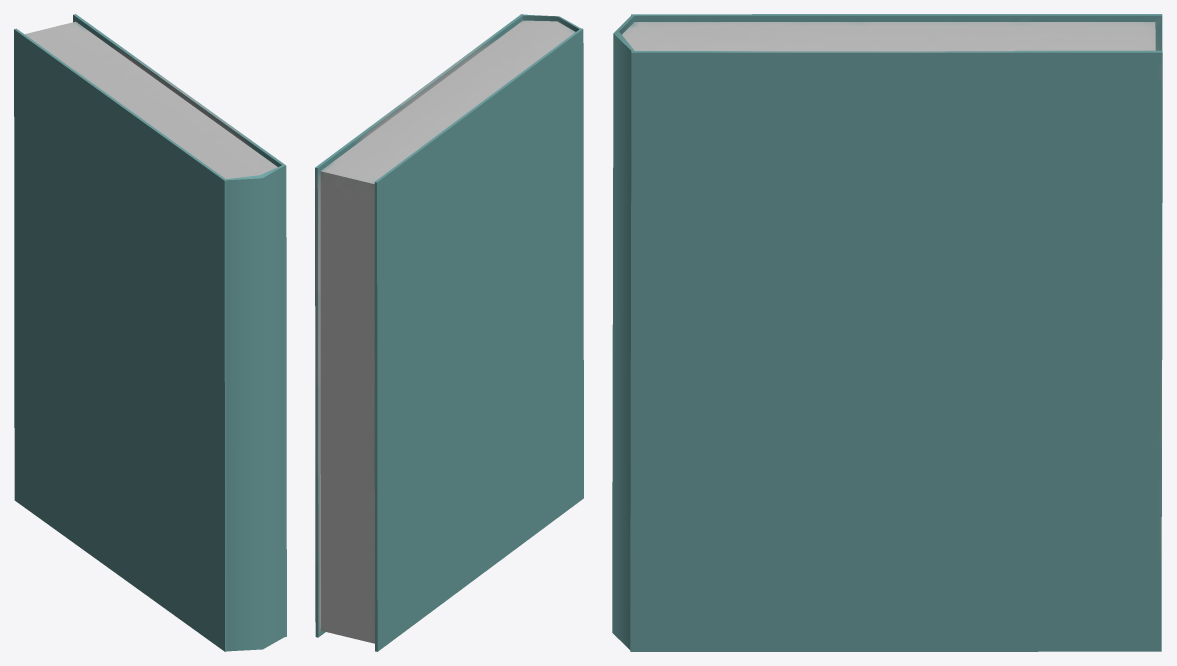
Rendered from BookAqua.fbx.
3 renders of one model, left to right at view 1: azimuth 30°, elevation 25°; view 2: azimuth 150°, elevation 25°; view 3: azimuth 270°, elevation 25°, orthographic. The views are drawn at different scales.
Visible parts, largest first — view 1: BookAquaOBJ; view 2: BookAquaOBJ; view 3: BookAquaOBJ.
Part boxes in pixels (x1,y1,x2,y2): BookAquaOBJ: (14,14,286,651); BookAquaOBJ: (315,14,583,651); BookAquaOBJ: (612,14,1162,651).
Bounding box in the file's own units: 5.41 × 38.31 × 31.75.
1 material, 1 textured.
